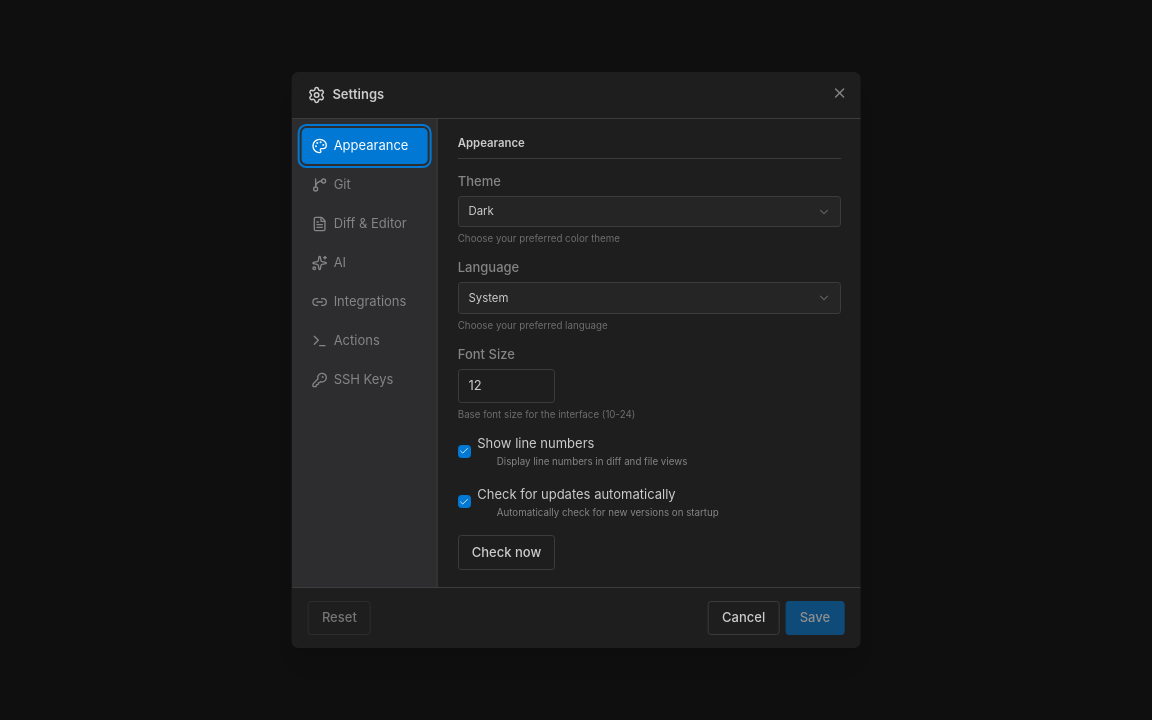
Scenario: SettingsDialog › should switch tabs when clicked
This screenshot has width=1152, height=720.
Expected: the text "Theme" is shown, [457, 172, 500, 188]
# Click on Git tab
What coordinates should you click on to do the following:
click the button "Git"
I would click on:
 (364, 185)
Its box is [301, 167, 427, 203].
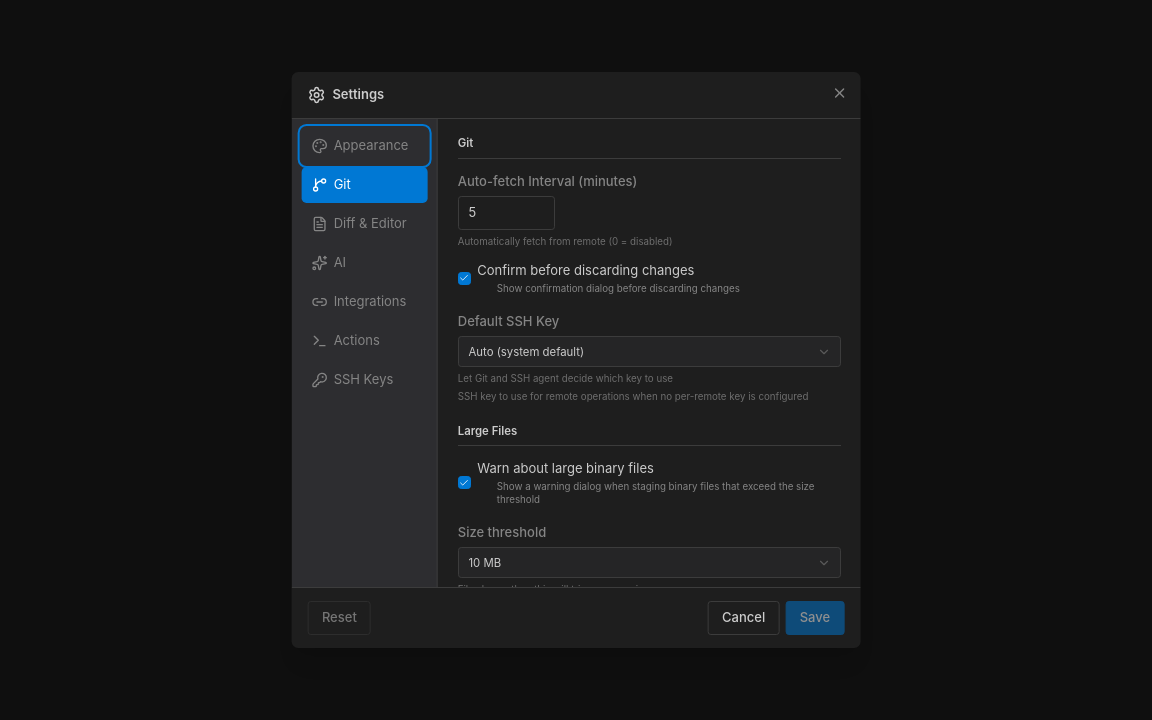
Expected: the text "Auto-fetch Interval (minutes)" is shown, [457, 172, 637, 188]
